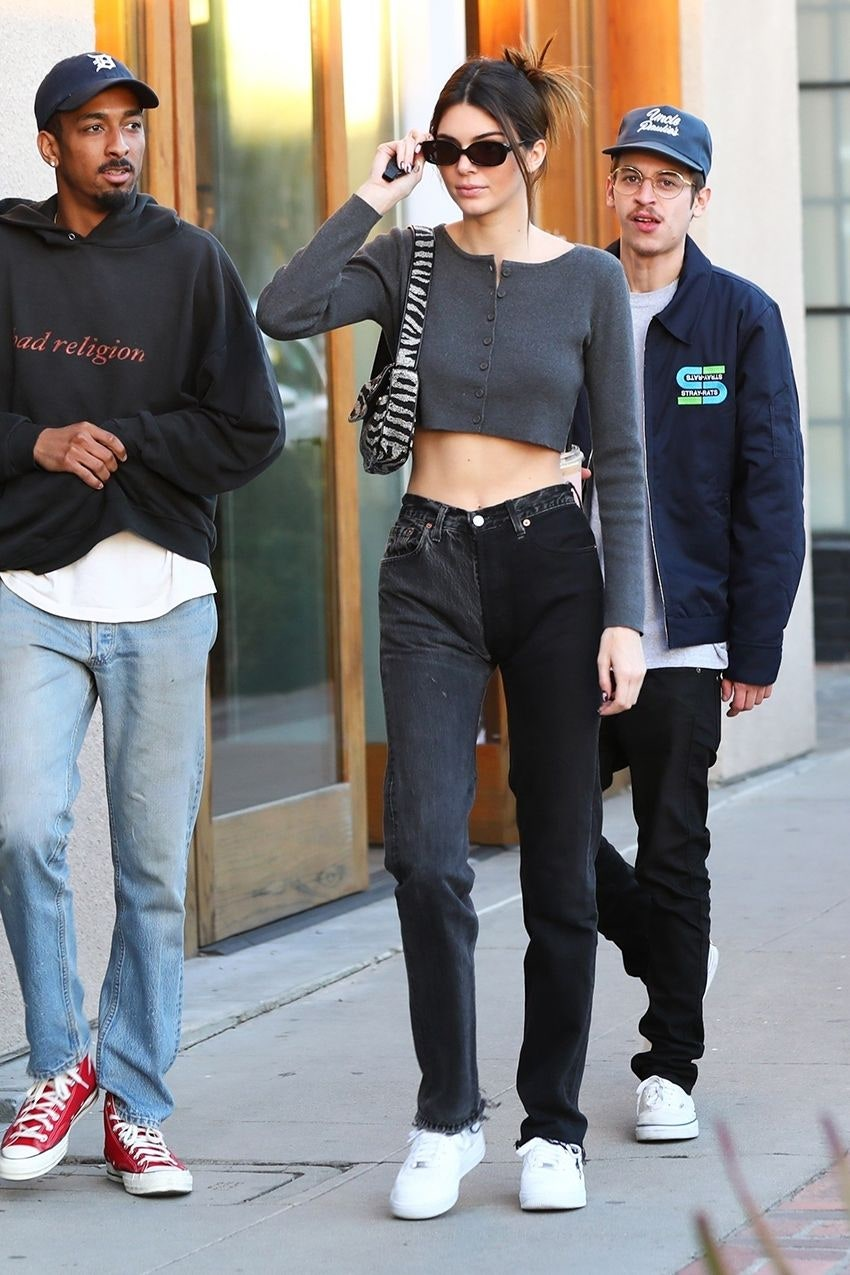Person: (260, 38, 615, 1221), (1, 50, 279, 1200), (608, 106, 808, 1143)
